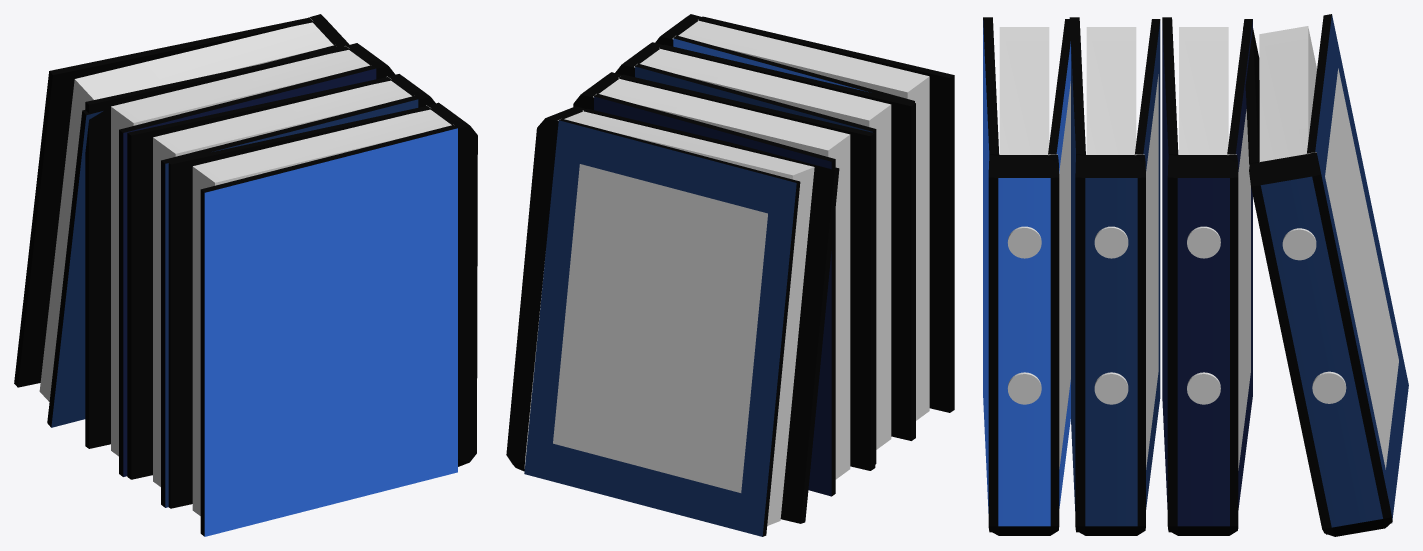
The model's file is Books.fbx.
3 views of the same model, side by side, from view 1: azimuth 30°, elevation 25°; view 2: azimuth 150°, elevation 25°; view 3: azimuth 270°, elevation 25° (orthographic). The views are drawn at different scales.
Visible parts, largest first — view 1: book, book.003, book.002, book.001; view 2: book.003, book.002, book.001, book; view 3: book.003, book.001, book.002, book.
Part boxes in pixels (x1,y1,x2,y2): book: [168, 102, 477, 536]; book.003: [14, 14, 349, 427]; book.002: [85, 43, 395, 476]; book.001: [127, 74, 435, 507]; book.003: [506, 106, 839, 536]; book.002: [573, 72, 875, 496]; book.001: [615, 42, 915, 464]; book: [655, 14, 954, 420]; book.003: [1243, 14, 1408, 536]; book.001: [1069, 17, 1160, 535]; book.002: [1162, 17, 1252, 535]; book: [983, 17, 1070, 535].
Bounding box in the file's own units: 749 × 904 × 903.
